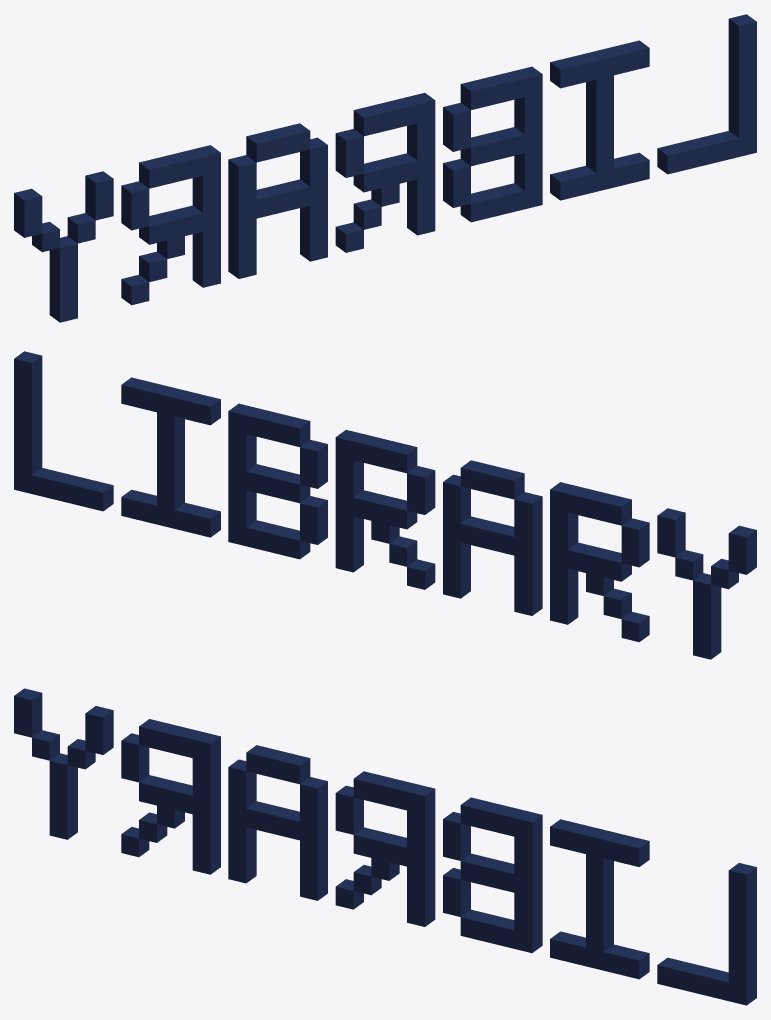
Rendered from lib_sign.glb.
3 renders of one model, top to bottom at view 1: azimuth 30°, elevation 25°; view 2: azimuth 150°, elevation 25°; view 3: azimuth 330°, elevation 25°, orthographic.
Visible parts, largest first — view 1: sign; view 2: sign; view 3: sign.
Part boxes in pixels (box(x1,y1,x2,y2)): sign: box(14, 14, 756, 322); sign: box(14, 351, 756, 659); sign: box(14, 688, 756, 1005).
Size of the model in its own units: 8.2 by 1.4 by 0.2.
